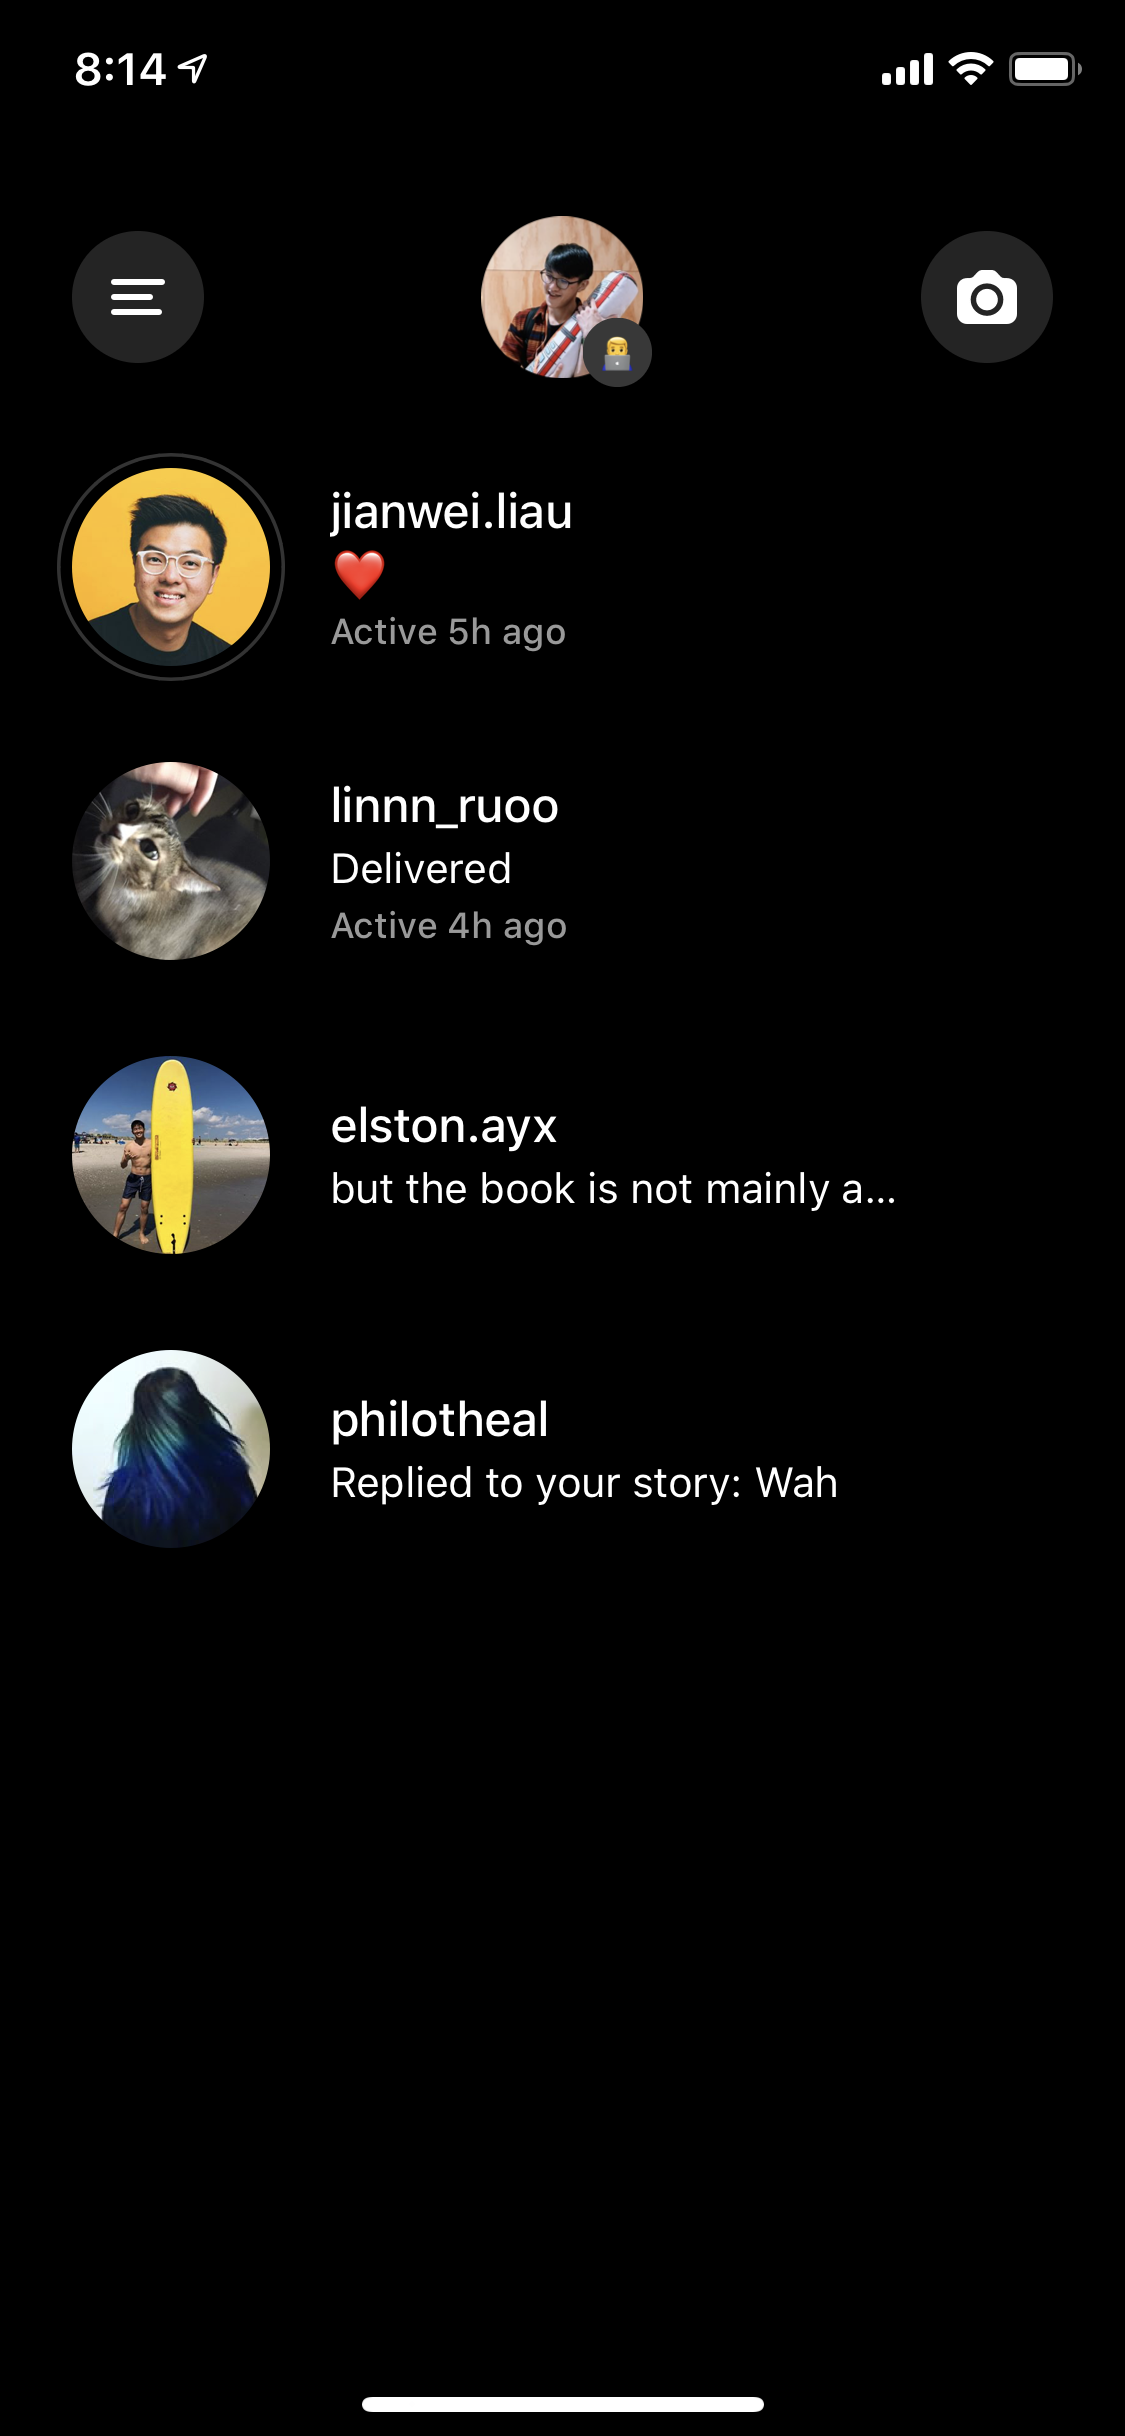FAB (Floating Action Button): (56, 219, 221, 370), (918, 216, 1057, 378)
